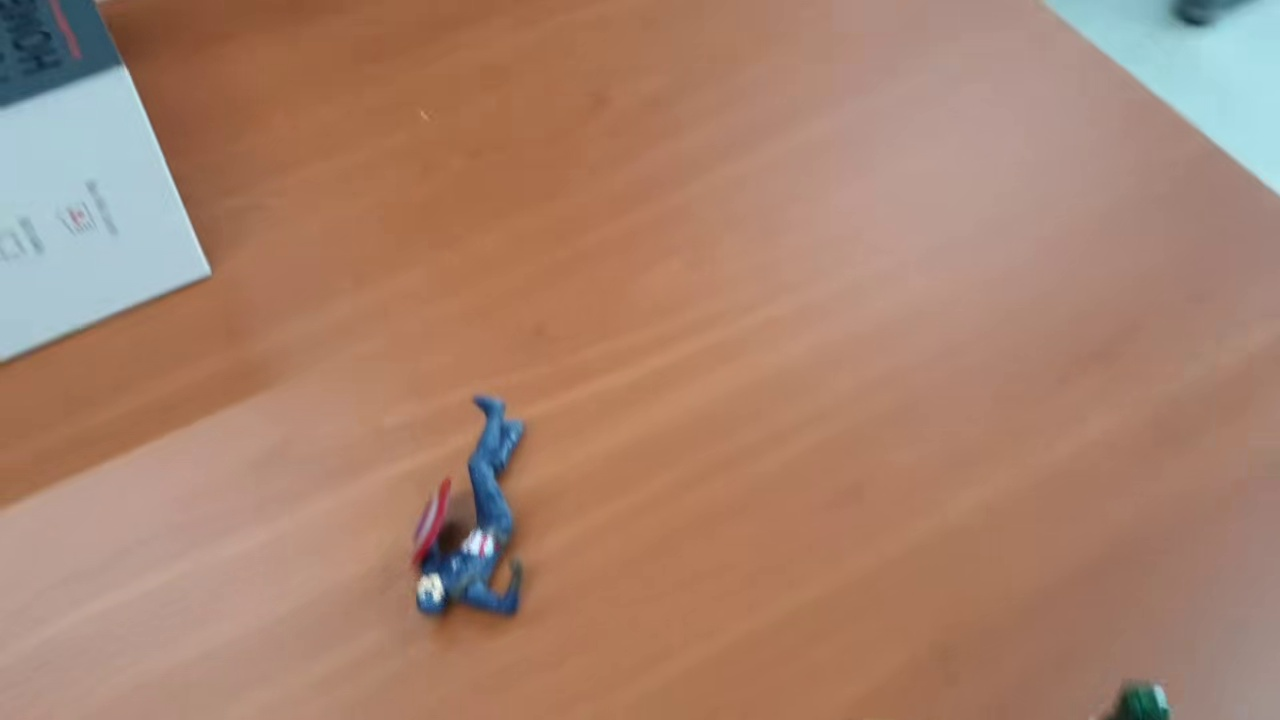people: (407, 388, 536, 627)
